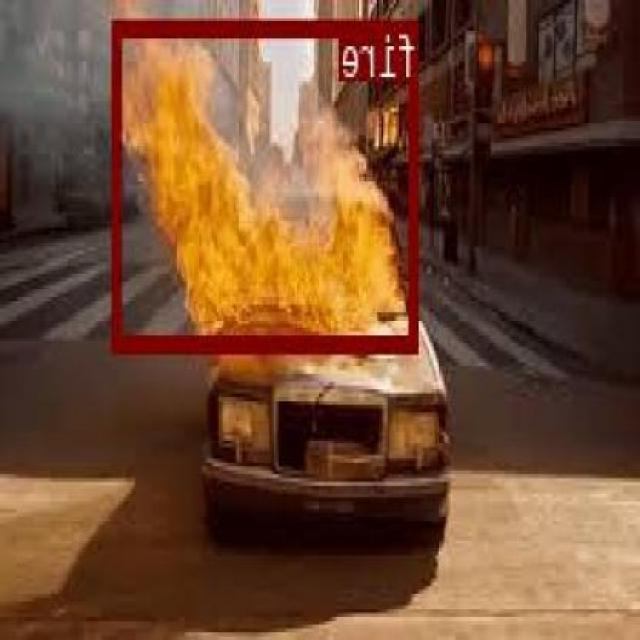Fire: (114, 19, 420, 347)
